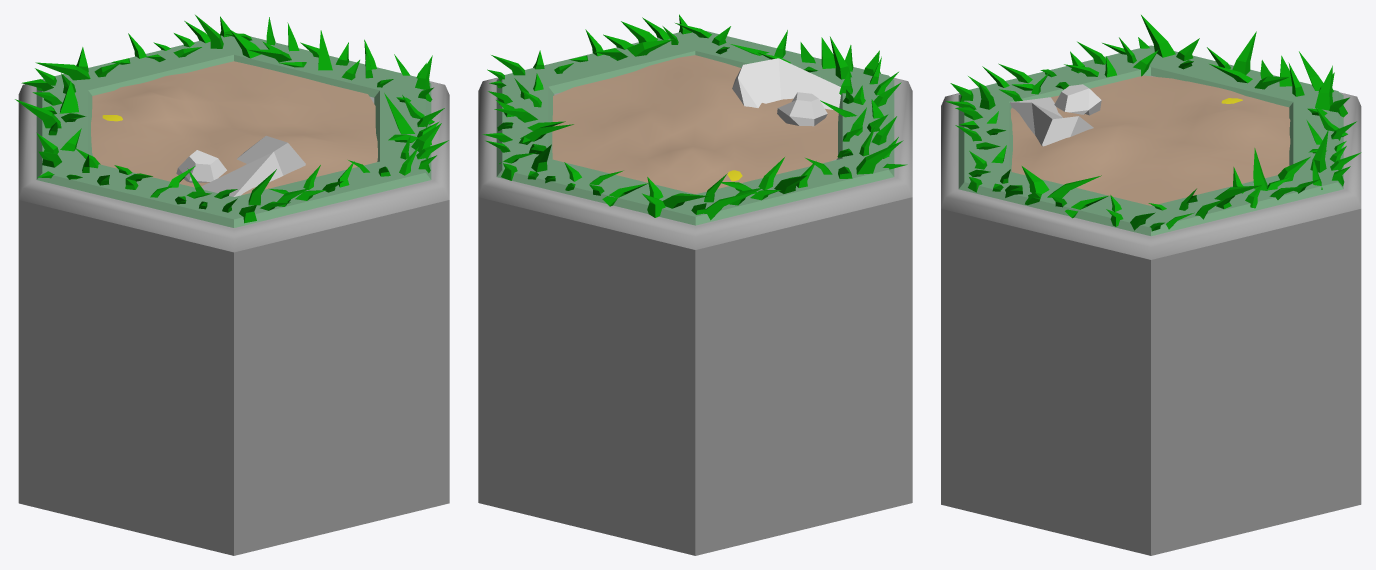
Rendered from presentation_tile2.fbx.
The picture shows the model from 3 angles, left to right: view 1: azimuth 30°, elevation 25°; view 2: azimuth 150°, elevation 25°; view 3: azimuth 270°, elevation 25°; orthographic projection. The views are drawn at different scales.
Parts seen in each view (by area): view 1: presentation_tile2; view 2: presentation_tile2; view 3: presentation_tile2.
Boxes of the visible parts, x1=… form: presentation_tile2: x1=15, y1=15, x2=449, y2=555; presentation_tile2: x1=478, y1=14, x2=912, y2=555; presentation_tile2: x1=941, y1=15, x2=1361, y2=555.
Bounding box in the file's own units: 3.88 × 3.08 × 3.36.
